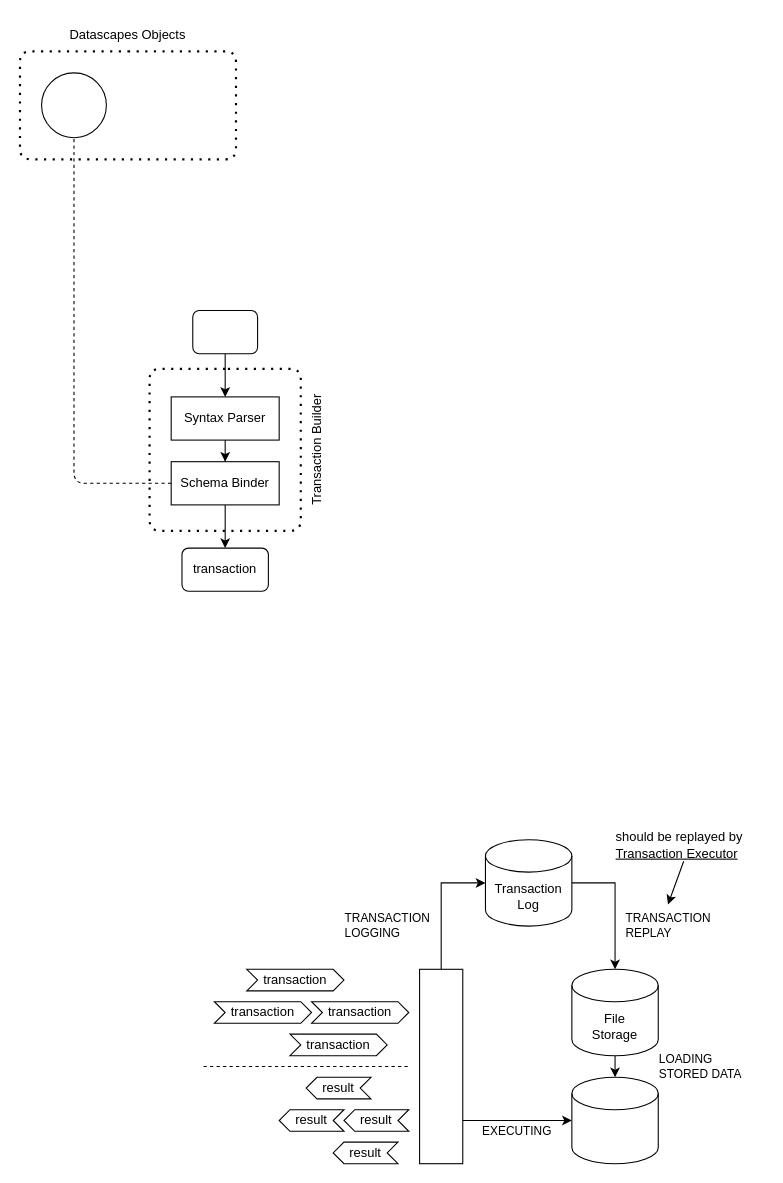
Some shapes in this 783 by 1183 pixel diagram are drawn without their labels. Here are the shapes that lost their labels. From the top down, the centre of each, then its label:
At [73,105]: "Schema".
At [225,331]: "query".
At [440,1066]: "Transaction Executor".
At [614,1120]: "In-Memory Storage".
